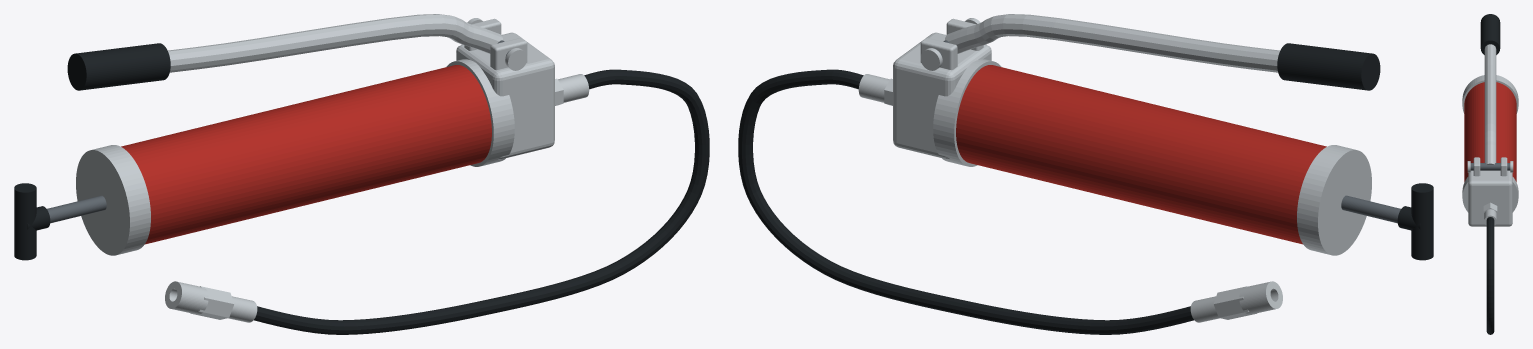
The model's file is full.fbx.
The picture shows the model from 3 angles, left to right: view 1: azimuth 30°, elevation 25°; view 2: azimuth 150°, elevation 25°; view 3: azimuth 270°, elevation 25°; orthographic projection. The views are drawn at different scales.
Visible parts, largest first — view 1: Closed grease barrel, Continuous delivery hose, Long lever spine, Rear threaded appearance cap, Closed pump head, Rear lever handgrip, Front barrel collar, Dark T pull handle, Coupler annular mouth, Rear plunger shaft, Coupler hex body, Head pivot ear -0.014 (+2 smaller); view 2: Closed grease barrel, Continuous delivery hose, Long lever spine, Rear threaded appearance cap, Closed pump head, Rear lever handgrip, Front barrel collar, Dark T pull handle, Coupler annular mouth, Rear plunger shaft, Coupler hex body, Head pivot ear 0.014 (+2 smaller); view 3: Closed grease barrel, Closed pump head, Long lever spine, Continuous delivery hose, Rear lever handgrip, Rear threaded appearance cap, Front barrel collar, Lever hinge pin, Head pivot ear -0.014, Head pivot ear 0.014, Hose head ferrule, Head outlet hex fitting.
Part boxes in pixels (x1,y1,x2,y2): Closed grease barrel: (121,65,491,244); Continuous delivery hose: (254,69,709,334); Long lever spine: (168,14,502,72); Rear threaded appearance cap: (76,145,150,255); Closed pump head: (456,32,554,159); Rear lever handgrip: (67,43,170,90); Front barrel collar: (446,59,514,166); Dark T pull handle: (14,183,36,260); Coupler annular mouth: (165,281,208,314); Rear plunger shaft: (47,195,106,223); Coupler hex body: (190,286,234,319); Head pivot ear -0.014: (490,38,527,70); Closed grease barrel: (956,65,1326,244); Continuous delivery hose: (738,69,1193,334); Long lever spine: (945,14,1279,72); Rear threaded appearance cap: (1297,145,1371,255); Closed pump head: (893,32,991,159); Rear lever handgrip: (1277,43,1380,90); Front barrel collar: (933,59,1001,166); Dark T pull handle: (1411,183,1433,260); Coupler annular mouth: (1239,281,1282,314); Rear plunger shaft: (1341,195,1400,223); Coupler hex body: (1213,286,1257,319); Head pivot ear 0.014: (920,38,957,70); Closed grease barrel: (1464,82,1516,181); Closed pump head: (1468,170,1512,226); Long lever spine: (1484,44,1496,164); Continuous delivery hose: (1486,217,1494,334); Rear lever handgrip: (1480,14,1500,54); Rear threaded appearance cap: (1462,75,1518,113); Front barrel collar: (1462,177,1518,212); Lever hinge pin: (1470,163,1510,170); Head pivot ear -0.014: (1473,157,1480,176); Head pivot ear 0.014: (1500,157,1507,176); Hose head ferrule: (1484,209,1496,225); Head outlet hex fitting: (1483,202,1497,218).
Size of the model in its own units: 42.87 by 21.27 by 5.8.
